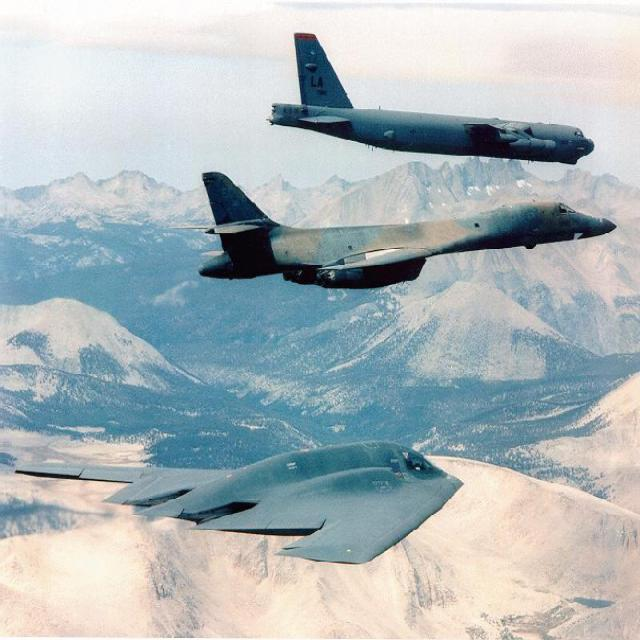MIL_Plane: (167, 171, 618, 289), (267, 31, 594, 163), (0, 442, 336, 564)
